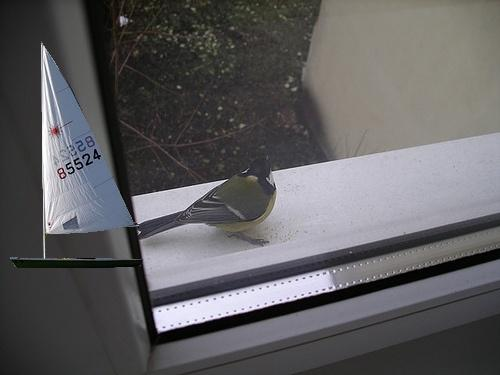tampered: (11, 42, 143, 268)
